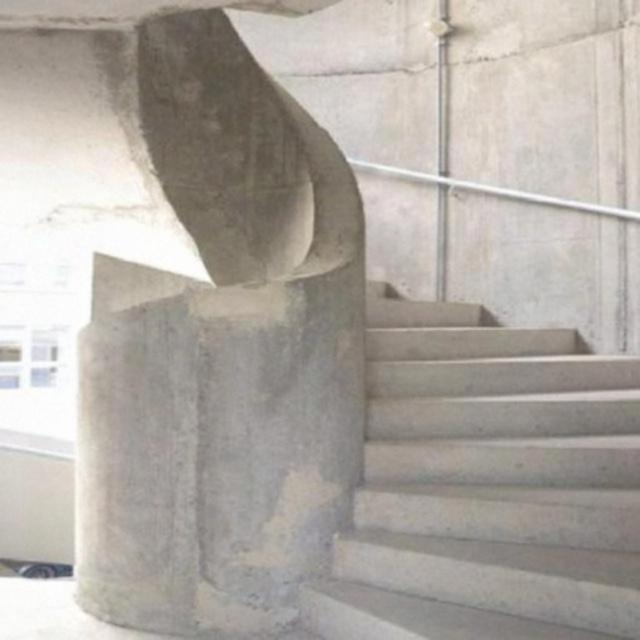stair: (172, 170, 638, 639)
